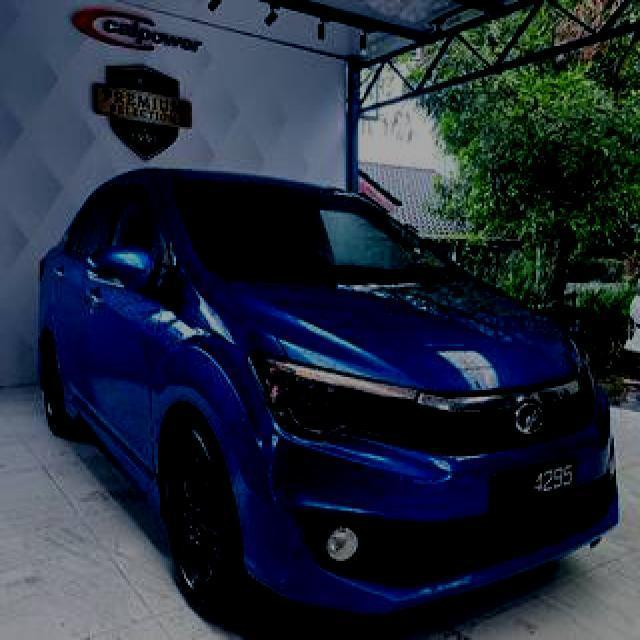PeroduaBezza: (35, 165, 621, 626)
